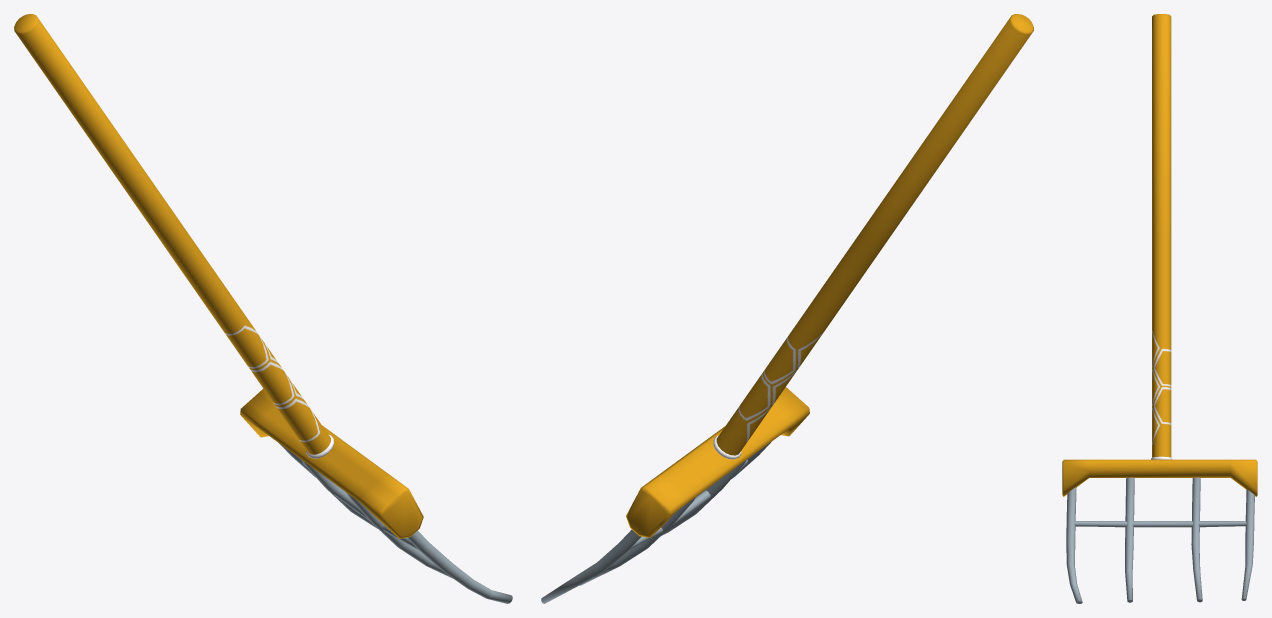
The model's file is Prop_rake.FBX.
3 renders of one model, left to right at view 1: azimuth 30°, elevation 25°; view 2: azimuth 150°, elevation 25°; view 3: azimuth 270°, elevation 25°, orthographic. The views are drawn at different scales.
Visible parts, largest first — view 1: Cylinder.001; view 2: Cylinder.001; view 3: Cylinder.001.
Boxes of the visible parts, left/top/right/bottom form: Cylinder.001: left=14, top=14, right=512, bottom=603; Cylinder.001: left=541, top=14, right=1033, bottom=603; Cylinder.001: left=1062, top=14, right=1257, bottom=603.
Bounding box in the file's own units: 2.72 × 6.94 × 4.89.
